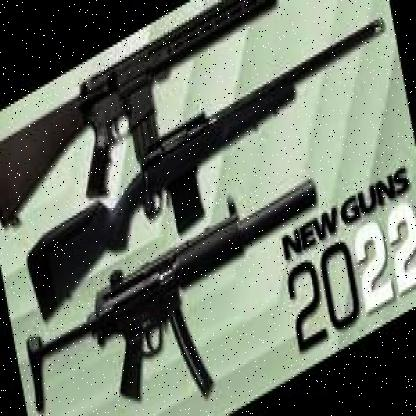rifle: (0, 0, 367, 233), (18, 188, 290, 416)
